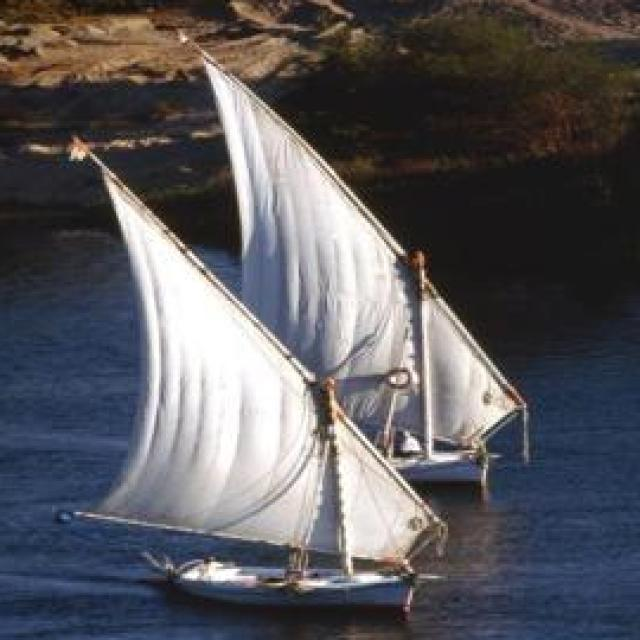sailboat: (69, 121, 437, 606), (196, 21, 525, 487)
